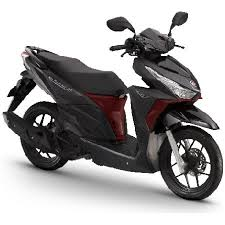motorcycle: (2, 11, 224, 201)
